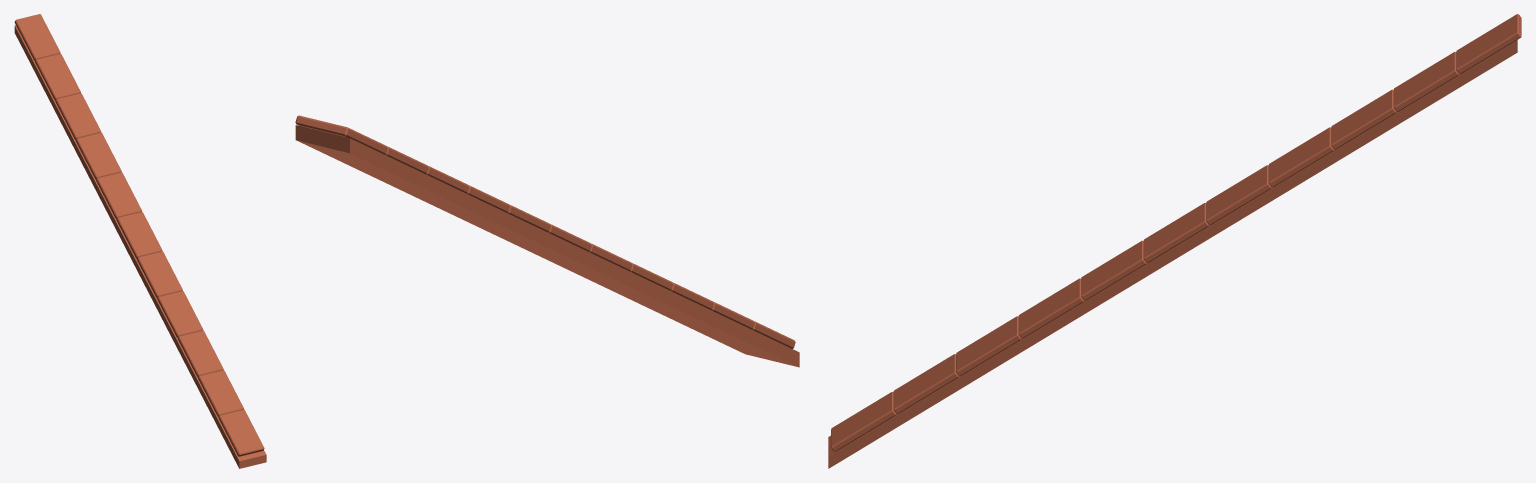
Rendered from SM_WL_RoofPanel8mSpanEnd30cm.fbx.
3 renders of one model, left to right at view 1: azimuth 30°, elevation 25°; view 2: azimuth 150°, elevation 25°; view 3: azimuth 270°, elevation 25°, orthographic. The views are drawn at different scales.
Parts seen in each view (by area): view 1: SM_WL_RoofPanel8mSpanEnd30cm; view 2: SM_WL_RoofPanel8mSpanEnd30cm; view 3: SM_WL_RoofPanel8mSpanEnd30cm.
Boxes of the visible parts, left/top/right/bottom form: SM_WL_RoofPanel8mSpanEnd30cm: left=14, top=14, right=266, bottom=468; SM_WL_RoofPanel8mSpanEnd30cm: left=295, top=115, right=799, bottom=367; SM_WL_RoofPanel8mSpanEnd30cm: left=828, top=14, right=1521, bottom=468.
Bounding box in the file's own units: 4.32 × 0.3 × 3.
